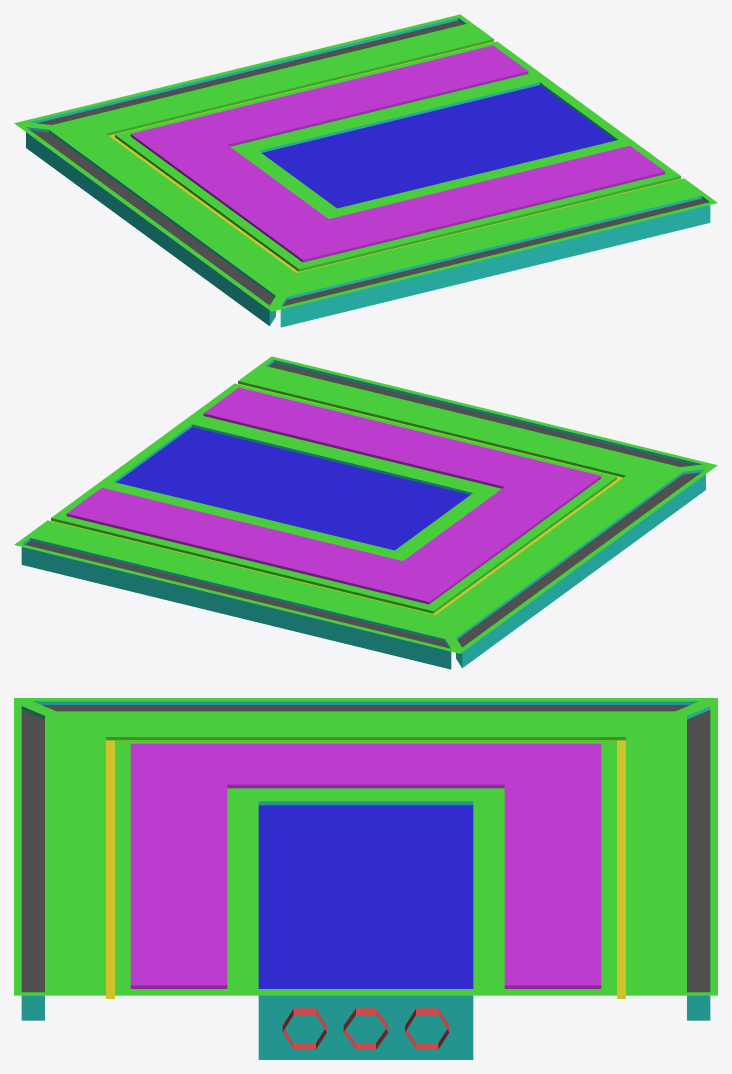
Rendered from Floor_12_Edge.fbx.
3 renders of one model, top to bottom at view 1: azimuth 30°, elevation 25°; view 2: azimuth 150°, elevation 25°; view 3: azimuth 270°, elevation 25°, orthographic. The views are drawn at different scales.
Parts seen in each view (by area): view 1: Floor_12_Edge; view 2: Floor_12_Edge; view 3: Floor_12_Edge.
Boxes of the visible parts, x1,y1,x2,y2 form: Floor_12_Edge: [14, 14, 717, 327]; Floor_12_Edge: [14, 356, 717, 669]; Floor_12_Edge: [14, 698, 717, 1059].
Bounding box in the file's own units: 229 × 26.67 × 229.
